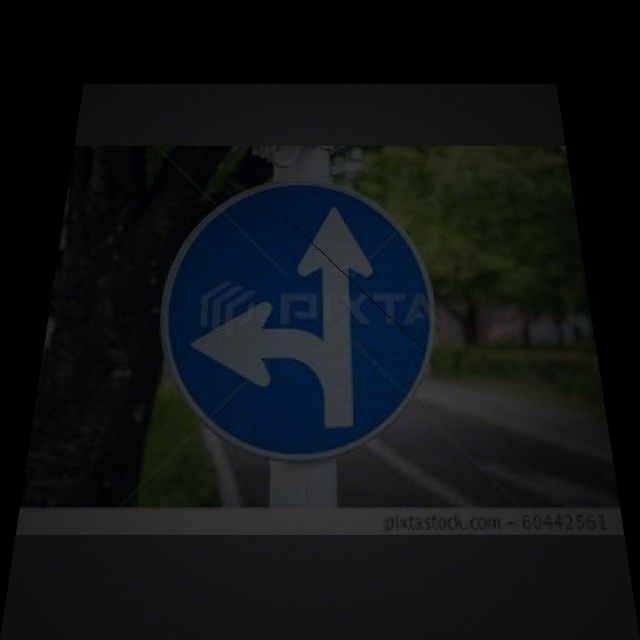Compulsory_Ahead_or_Turn_Left: (149, 187, 446, 447)
